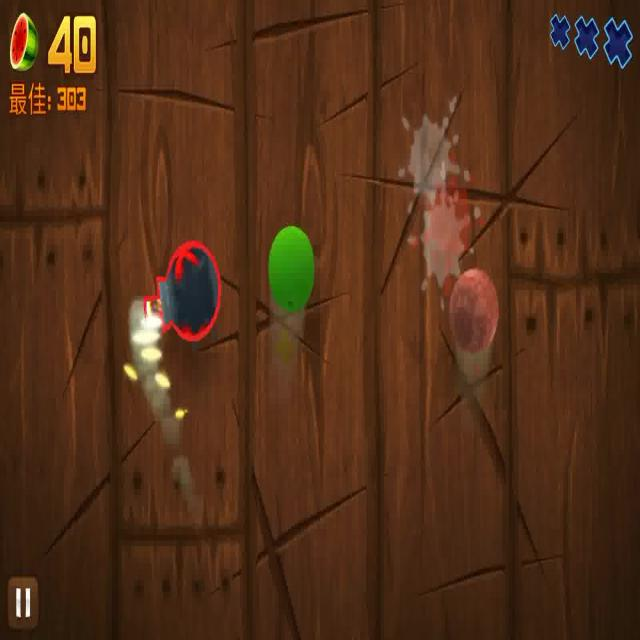bomb: (123, 232, 223, 378)
fruit: (446, 260, 500, 364), (268, 224, 317, 314)
